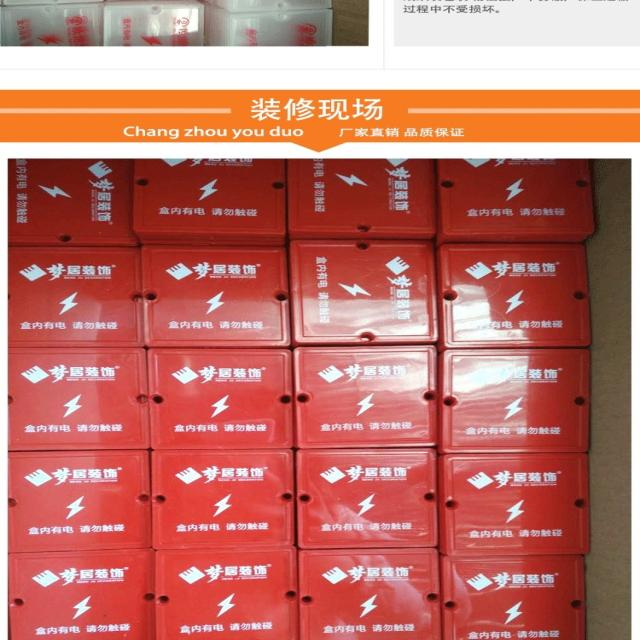box: (435, 240, 596, 345), (440, 345, 596, 453), (439, 453, 591, 557), (141, 246, 293, 348), (145, 346, 293, 450), (292, 242, 439, 345), (3, 450, 151, 551), (152, 449, 297, 549), (291, 448, 437, 547), (295, 346, 438, 447), (436, 157, 603, 243), (10, 344, 144, 451), (132, 157, 288, 246), (8, 545, 154, 637), (149, 550, 302, 637), (8, 247, 143, 344), (297, 551, 445, 639), (288, 159, 438, 242), (442, 554, 587, 639), (3, 157, 142, 245), (206, 4, 334, 44), (101, 1, 206, 45), (2, 2, 105, 44), (202, 1, 331, 15)
